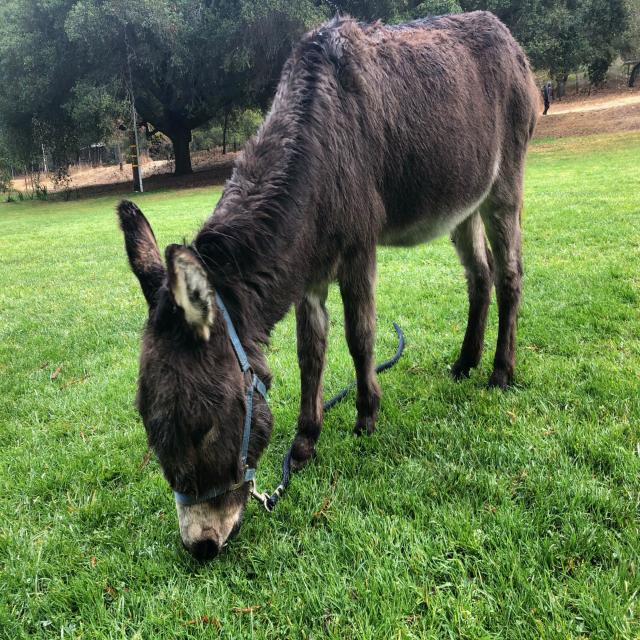donkey: (117, 11, 539, 559)
